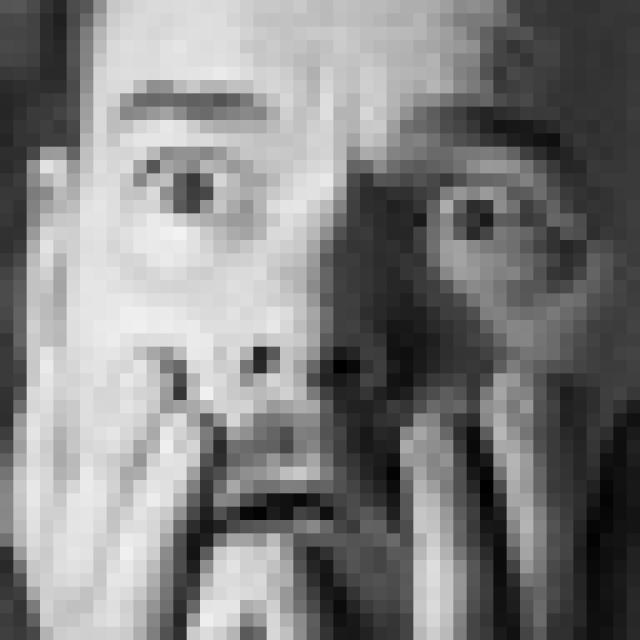fear: (118, 87, 594, 608)
